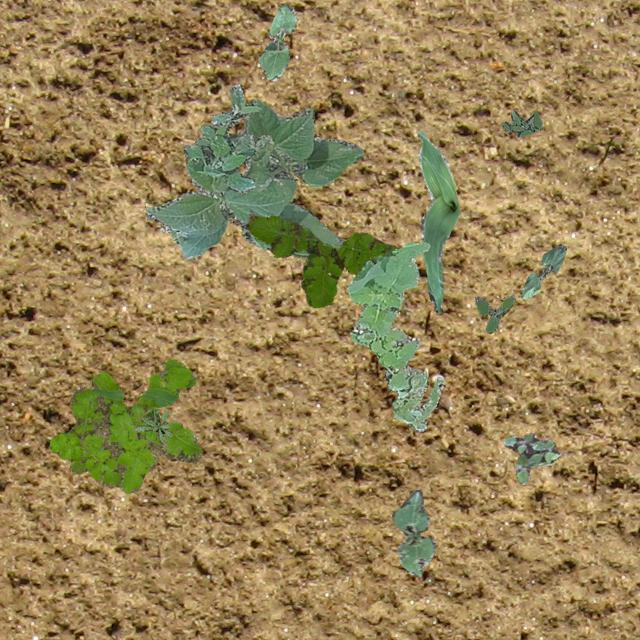crop: (146, 98, 362, 258), (416, 130, 459, 312), (390, 488, 434, 576), (258, 2, 294, 80), (520, 242, 564, 298)
weed: (47, 358, 202, 492), (346, 240, 444, 432), (245, 212, 398, 306), (182, 82, 268, 192), (502, 432, 560, 484), (474, 294, 514, 332), (134, 406, 172, 444), (501, 110, 542, 136)
